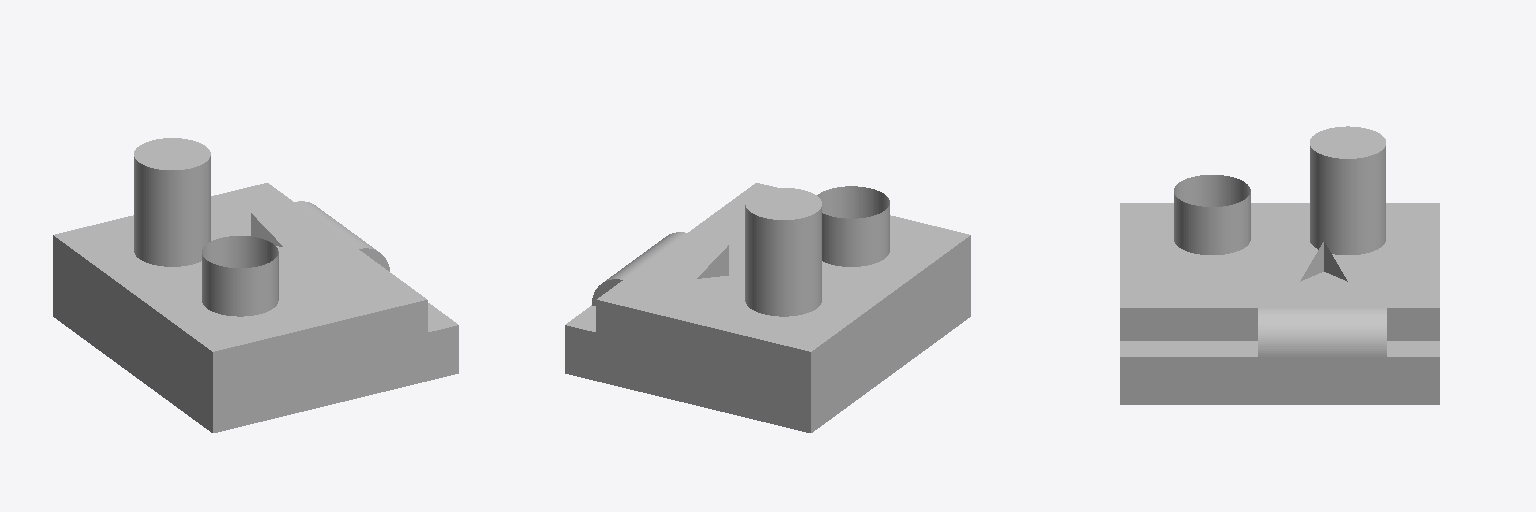
The model's file is SLICY1.obj.
The picture shows the model from 3 angles: view 1: azimuth 30°, elevation 25°; view 2: azimuth 150°, elevation 25°; view 3: azimuth 270°, elevation 25°; orthographic projection.
Parts seen in each view (by area): view 1: Box002, Box001, Cylinder002, Tube001, Cylinder001; view 2: Box002, Box001, Cylinder002, Tube001, Cylinder001; view 3: Box002, Box001, Cylinder002, Cylinder001, Tube001.
Boxes of the visible parts, x1=… form: Box002: x1=53, y1=183, x2=427, y2=384; Box001: x1=53, y1=268, x2=458, y2=432; Cylinder002: x1=134, y1=138, x2=210, y2=266; Tube001: x1=202, y1=236, x2=278, y2=316; Cylinder001: x1=295, y1=201, x2=389, y2=271; Box002: x1=596, y1=183, x2=970, y2=384; Box001: x1=565, y1=268, x2=970, y2=432; Cylinder002: x1=745, y1=188, x2=821, y2=316; Tube001: x1=817, y1=186, x2=889, y2=266; Cylinder001: x1=592, y1=232, x2=686, y2=305; Box002: x1=1120, y1=203, x2=1439, y2=340; Box001: x1=1120, y1=341, x2=1439, y2=404; Cylinder002: x1=1310, y1=126, x2=1385, y2=254; Cylinder001: x1=1258, y1=308, x2=1386, y2=356; Tube001: x1=1174, y1=175, x2=1250, y2=254.
Size of the model in its own units: 2.44 by 1.69 by 2.75.